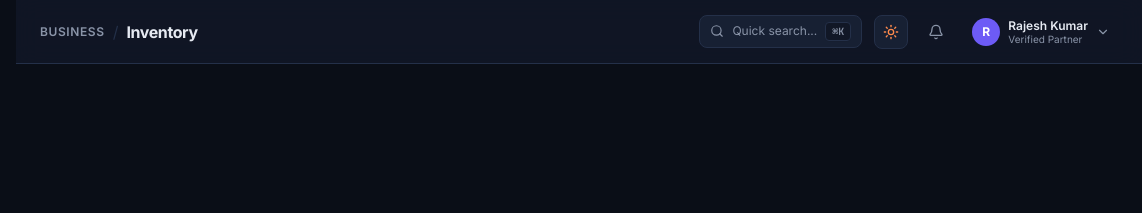
Test case: Step 4: Live Mode vs Demo Mode Verification › Header & Persona Switcher in Live Mode › does NOT render "Demo data" badge or persona switcher options in Live Mode (isDemoMode=false)
This screenshot has width=1142, height=213.
Open user dropdown
Click the button with aria-label "user account menu" at (1041, 32), box [964,12,1118,52]
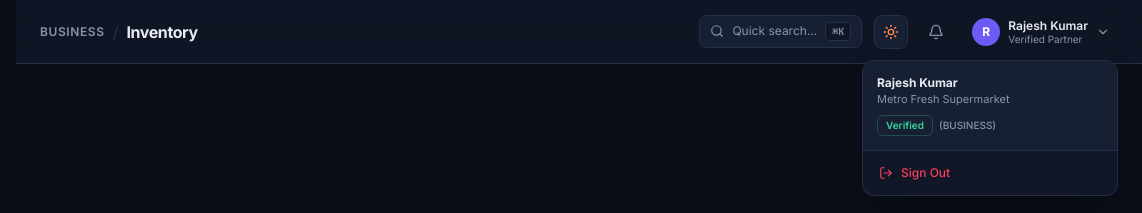
Expected: the 1st text "Rajesh Kumar" is shown, [1008,18,1088,33]
Now the text "Metro Fresh Supermarket" is shown, box [877,92,1010,106]
